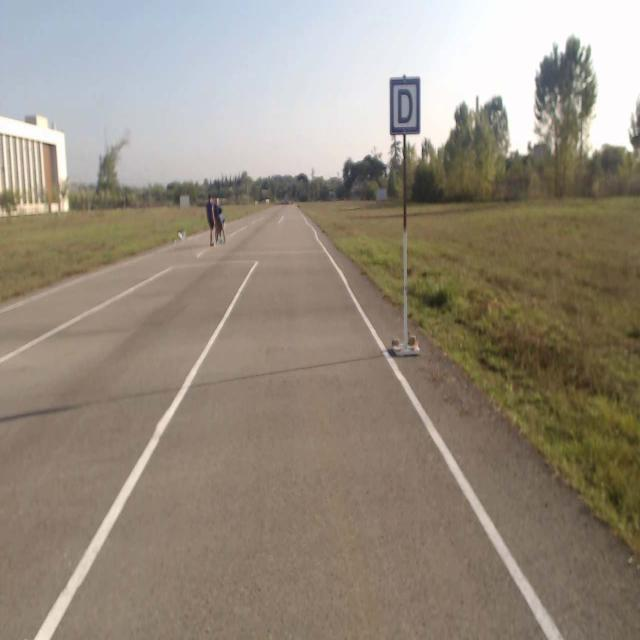durak: (390, 78, 420, 134)
